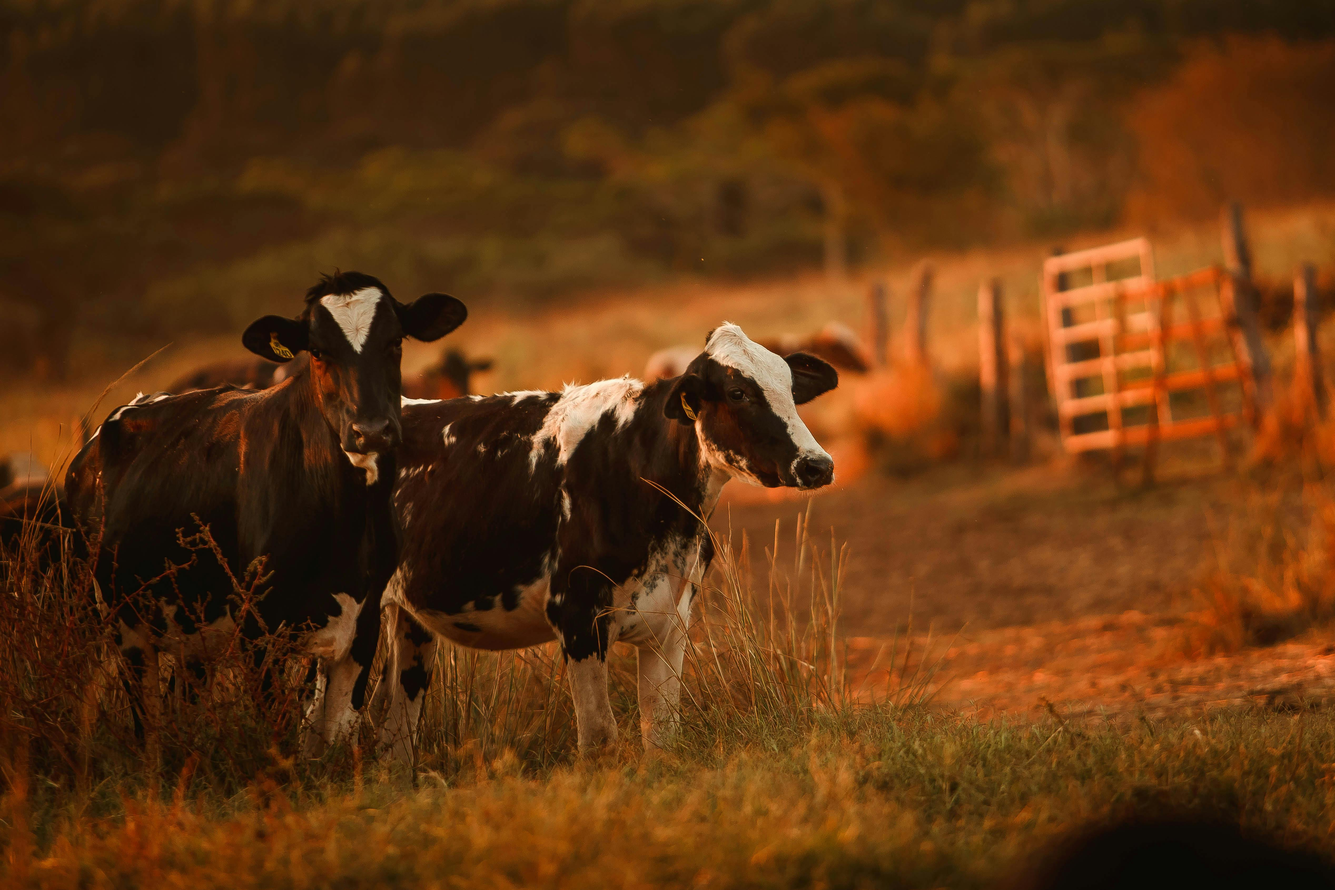bovino: (384, 321, 836, 775), (66, 278, 453, 764)
